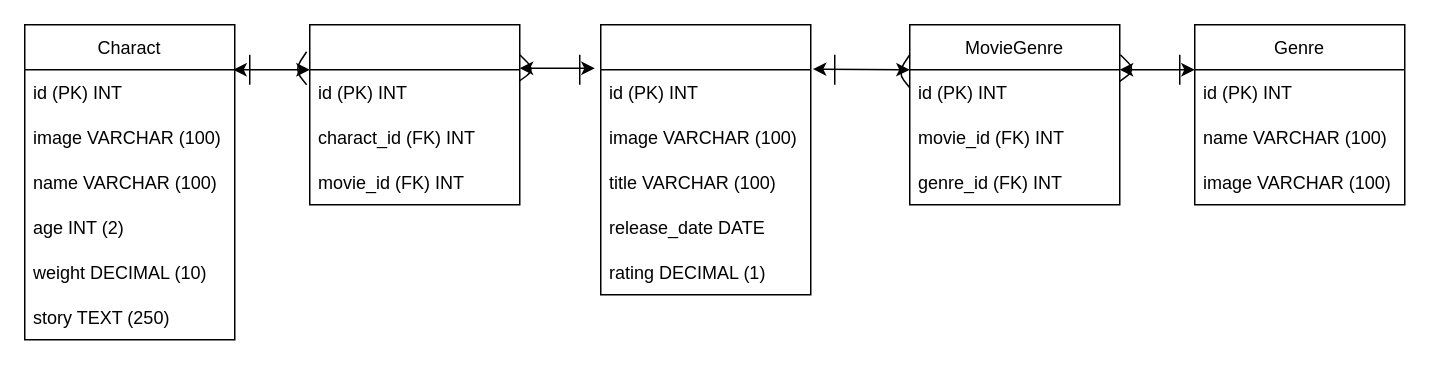
Some shapes in this 1430 by 365 pixel diagram are drawn without their labels. The shapes that lost their labels are listed below. From the top down, each one's box as (x1, y1, x2, y2) in pixels, then its label:
(308, 23, 520, 205): CharactMovie
(599, 23, 811, 295): Movie
